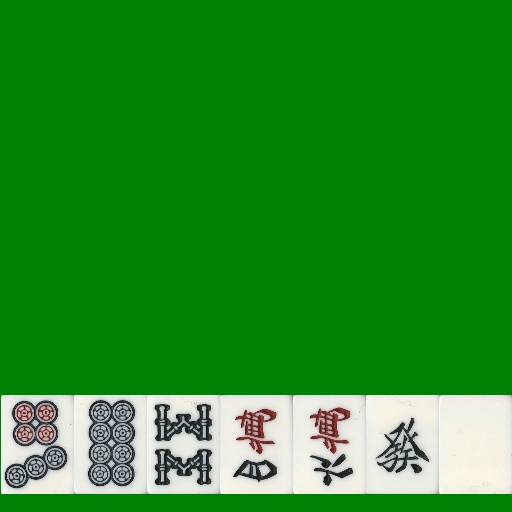4m: (220, 395, 293, 494)
6m: (293, 395, 366, 494)
7p: (1, 395, 74, 494)
8p: (74, 395, 147, 494)
8s: (147, 395, 220, 494)
hatsu: (366, 395, 439, 494)
white: (439, 395, 512, 494)
